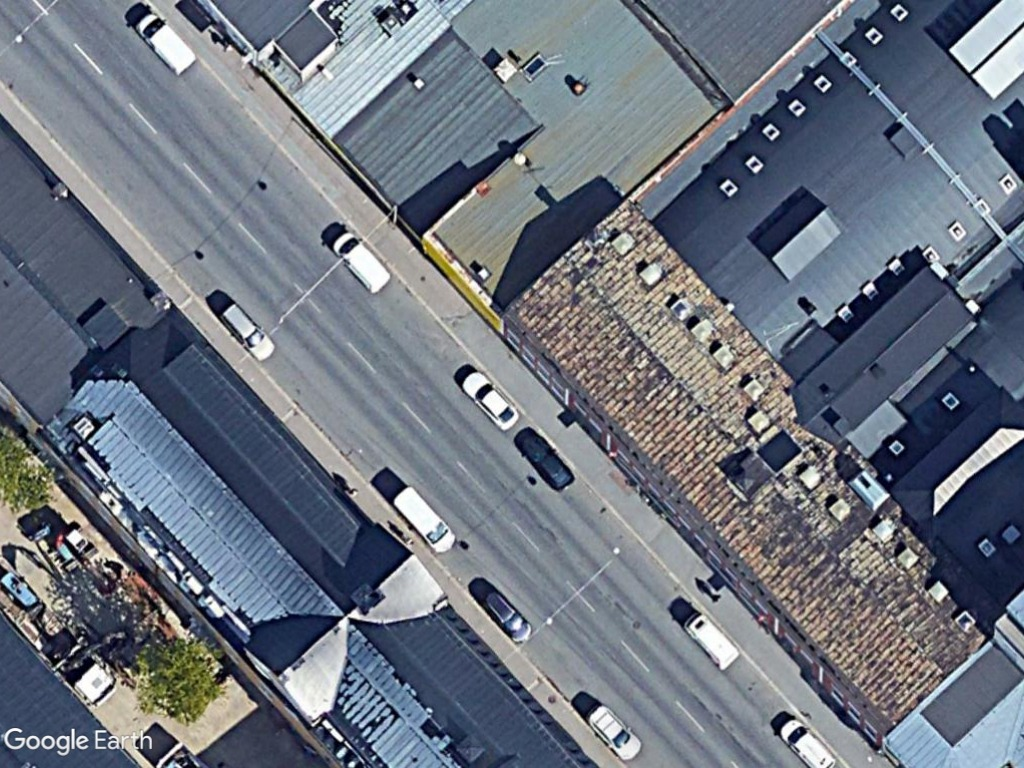car: (579, 694, 651, 768), (207, 295, 282, 366), (451, 362, 523, 435), (507, 424, 576, 495), (474, 583, 537, 653), (775, 710, 841, 768)
van: (382, 482, 464, 561), (322, 222, 394, 300), (129, 5, 202, 81)
